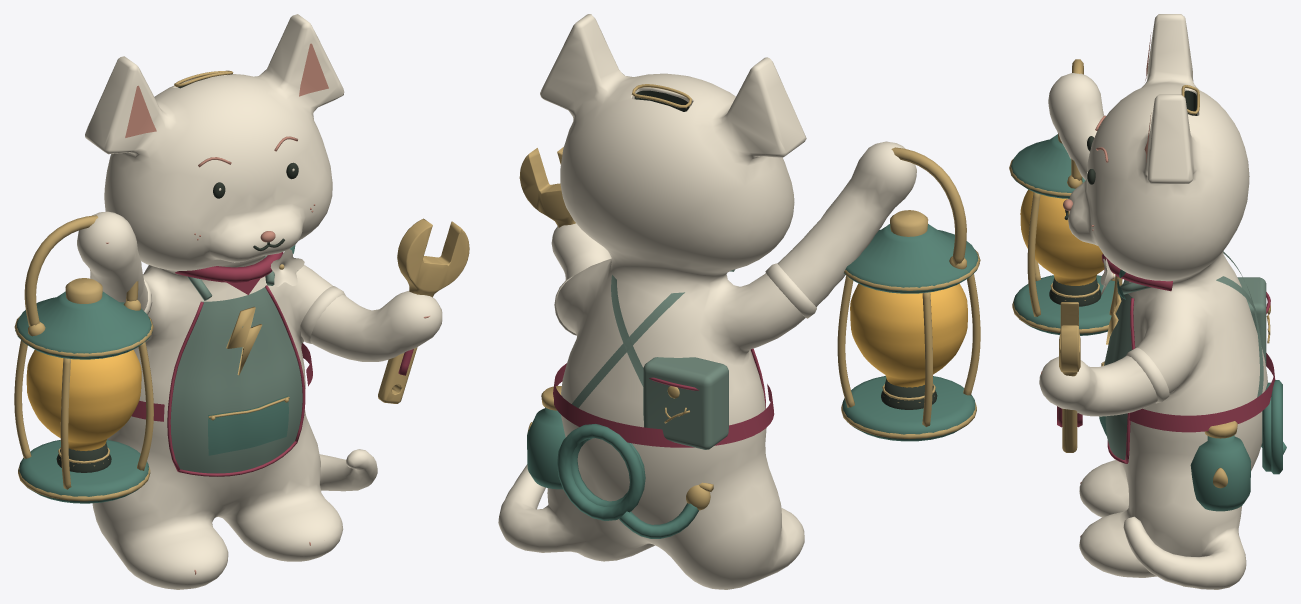
Rendered from utilities.v1.glb.
3 views of the same model, side by side, from view 1: azimuth 30°, elevation 25°; view 2: azimuth 150°, elevation 25°; view 3: azimuth 270°, elevation 25° (orthographic). The views are drawn at different scales.
Visible parts, largest first — view 1: Utilities | Porcelain, Utilities | Sage, Utilities | Gold, Utilities | Celadon, Utilities | Amber, Utilities | Garnet, Utilities | Rose, Utilities | Ink; view 2: Utilities | Porcelain, Utilities | Celadon, Utilities | Gold, Utilities | Sage, Utilities | Amber, Utilities | Garnet, Utilities | Ink; view 3: Utilities | Porcelain, Utilities | Celadon, Utilities | Gold, Utilities | Amber, Utilities | Sage, Utilities | Garnet, Utilities | Ink, Utilities | Rose.
Boxes of the visible parts, box(x1,y1,x2,y2) form: Utilities | Porcelain: box(77, 14, 442, 589); Utilities | Sage: box(170, 255, 302, 473); Utilities | Gold: box(14, 70, 469, 501); Utilities | Celadon: box(15, 245, 295, 503); Utilities | Amber: box(26, 349, 141, 450); Utilities | Garnet: box(131, 252, 413, 476); Utilities | Rose: box(106, 43, 429, 574); Utilities | Ink: box(56, 77, 298, 472); Utilities | Porcelain: box(498, 14, 916, 589); Utilities | Celadon: box(527, 224, 979, 538); Utilities | Gold: box(519, 84, 980, 510); Utilities | Sage: box(572, 269, 735, 449); Utilities | Amber: box(850, 283, 967, 387); Utilities | Garnet: box(553, 348, 774, 447); Utilities | Ink: box(634, 90, 937, 409); Utilities | Porcelain: box(1039, 14, 1267, 589); Utilities | Celadon: box(1011, 134, 1286, 511); Utilities | Gold: box(1009, 59, 1270, 488); Utilities | Amber: box(1020, 189, 1104, 285); Utilities | Sage: box(1104, 251, 1266, 460); Utilities | Garnet: box(1057, 254, 1275, 463); Utilities | Ink: box(1049, 90, 1197, 306); Utilities | Rose: box(1041, 32, 1151, 537).
Size of the model in its own units: 0.8933 by 1 by 0.515.
